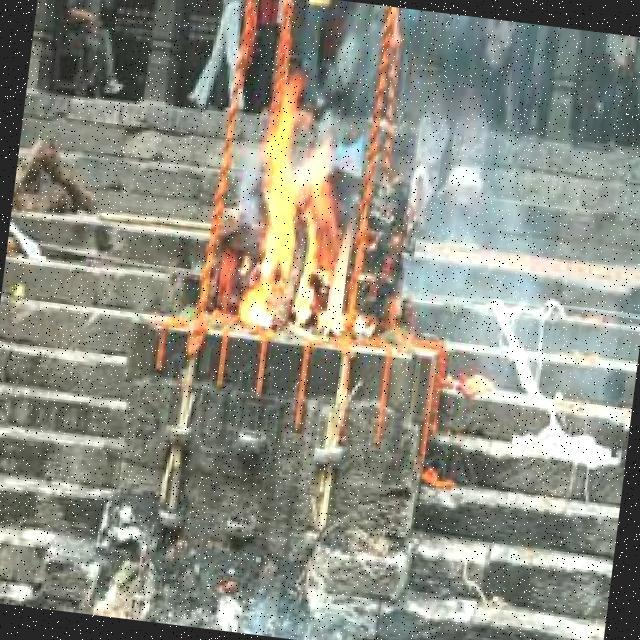Fire: (240, 75, 377, 340)
